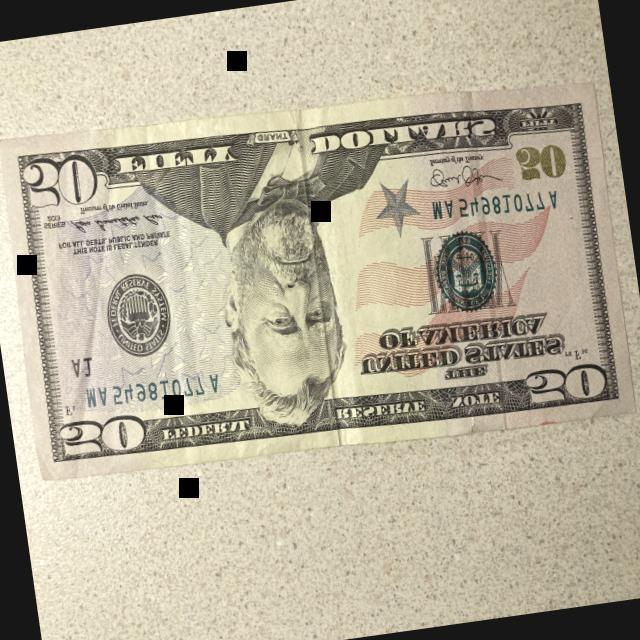fifty: (0, 58, 639, 497)
